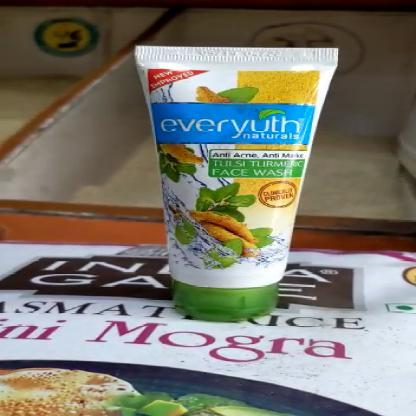EY AAAM TULSI TURMERIC FACEWASH50G: (138, 44, 338, 316)
